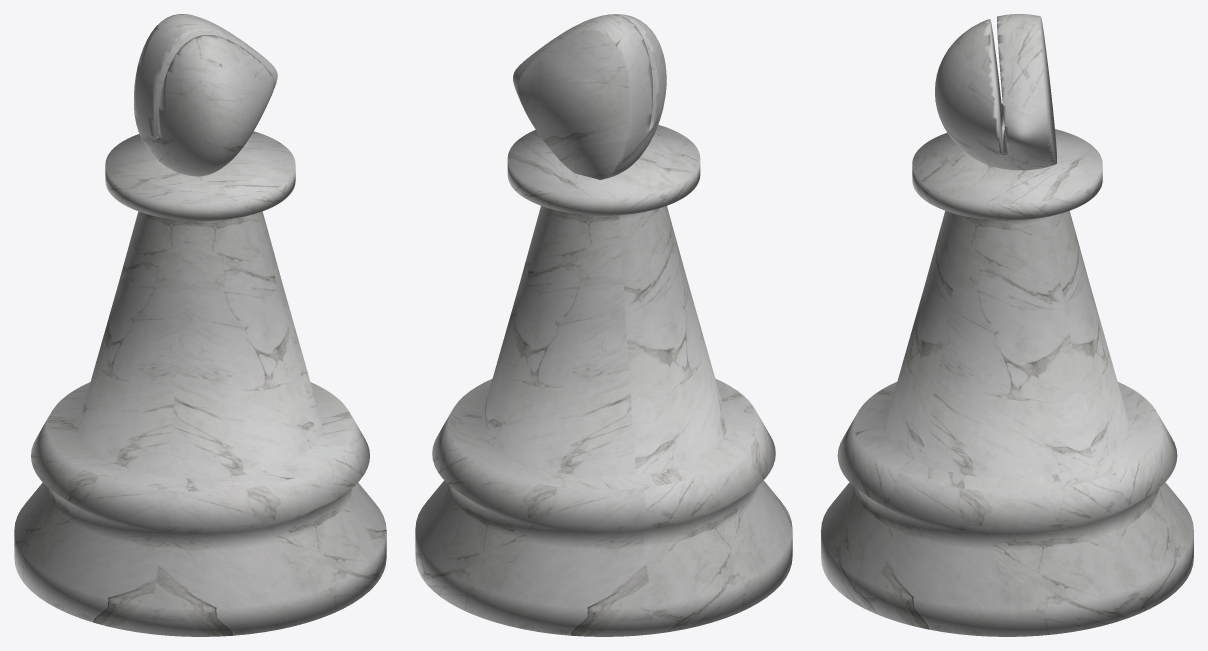
The model's file is ALL.gltf.
3 views of the same model, side by side, from view 1: azimuth 30°, elevation 25°; view 2: azimuth 150°, elevation 25°; view 3: azimuth 270°, elevation 25° (orthographic).
Visible parts, largest first — view 1: BishopBlack1; view 2: BishopBlack1; view 3: BishopBlack1.
Boxes of the visible parts, bbox=[...] form: BishopBlack1: bbox=[14, 14, 386, 636]; BishopBlack1: bbox=[415, 14, 792, 636]; BishopBlack1: bbox=[821, 14, 1193, 636].
Size of the model in its own units: 0.0218 by 0.0346 by 0.0218.
Materials: 1 (1 with a texture image).
